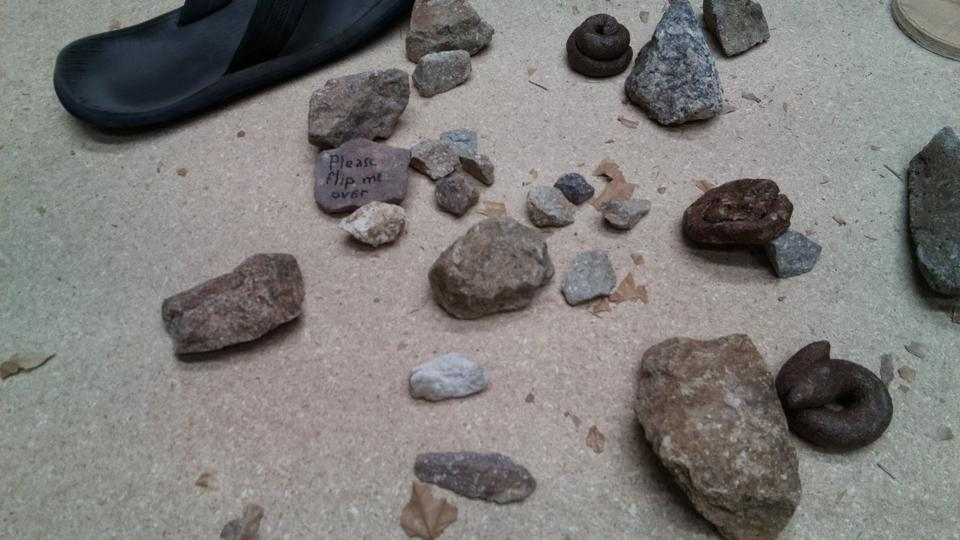poop: (773, 338, 895, 455), (678, 175, 794, 253), (563, 11, 632, 82)
